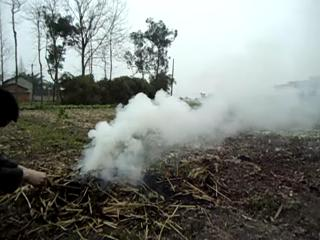yanwu: (80, 68, 296, 177)
